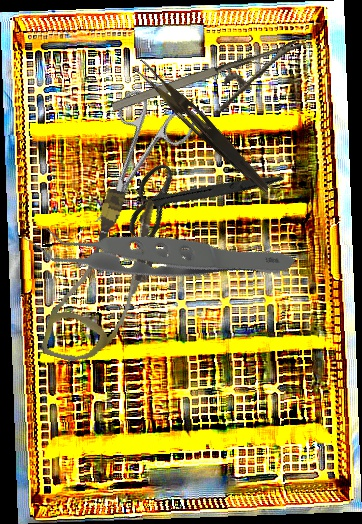Cannula: (39, 182, 170, 376)
Dressing Forceps: (128, 58, 277, 195)
Iris Scissors: (108, 107, 286, 284), (64, 82, 200, 242)
Needle Holder: (109, 37, 316, 144)
Tissue Forceps: (20, 122, 296, 375)
